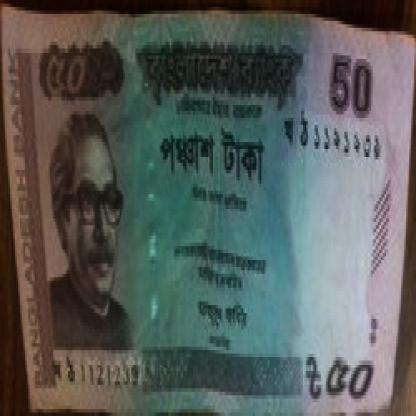Fifty taka: (318, 38, 393, 139), (305, 340, 386, 412), (37, 38, 93, 111)
